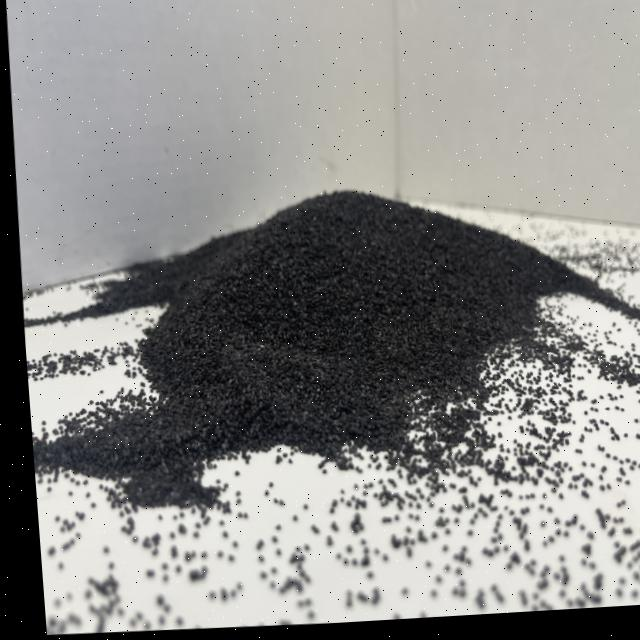Poppy Seeds: (48, 145, 633, 556)
